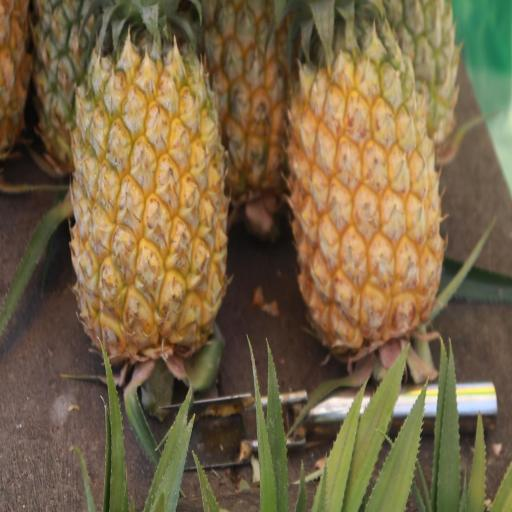Pineapple - v8 v1: (64, 0, 235, 397), (280, 0, 450, 375)
